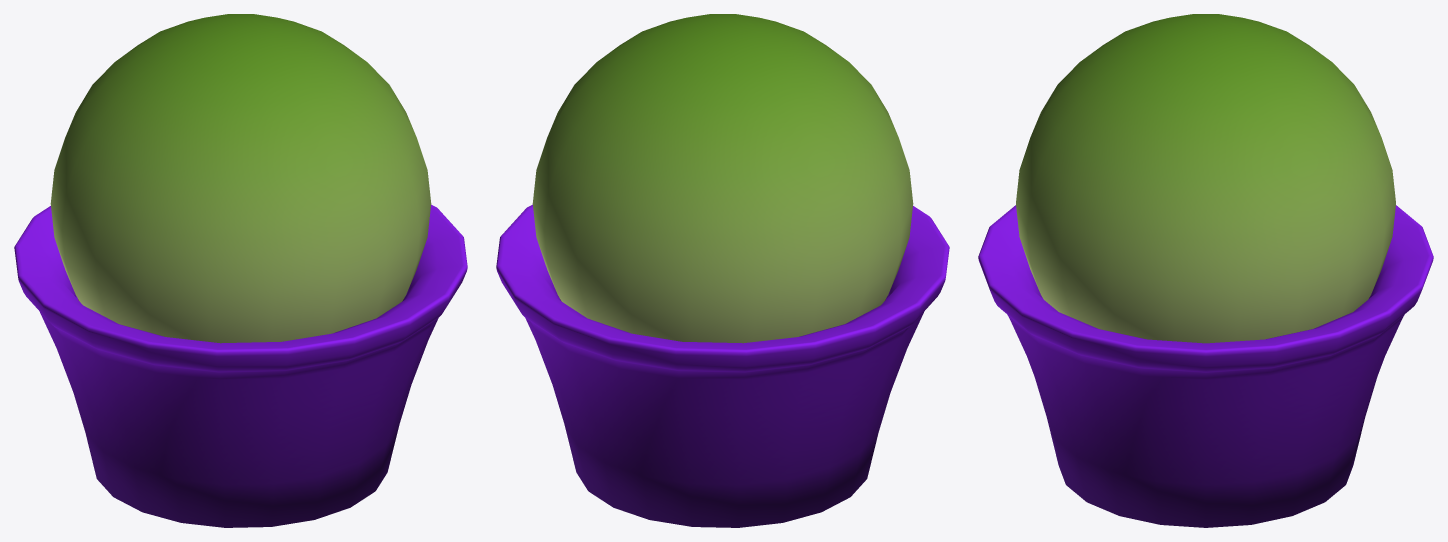
The model's file is Plant.fbx.
3 renders of one model, left to right at view 1: azimuth 30°, elevation 25°; view 2: azimuth 150°, elevation 25°; view 3: azimuth 270°, elevation 25°, orthographic.
Parts seen in each view (by area): view 1: Plant; view 2: Plant; view 3: Plant.
Part boxes in pixels (x1=…): Plant: x1=14, y1=14, x2=467, y2=527; Plant: x1=496, y1=14, x2=949, y2=527; Plant: x1=978, y1=14, x2=1433, y2=527.
Bounding box in the file's own units: 269 × 283 × 269.
